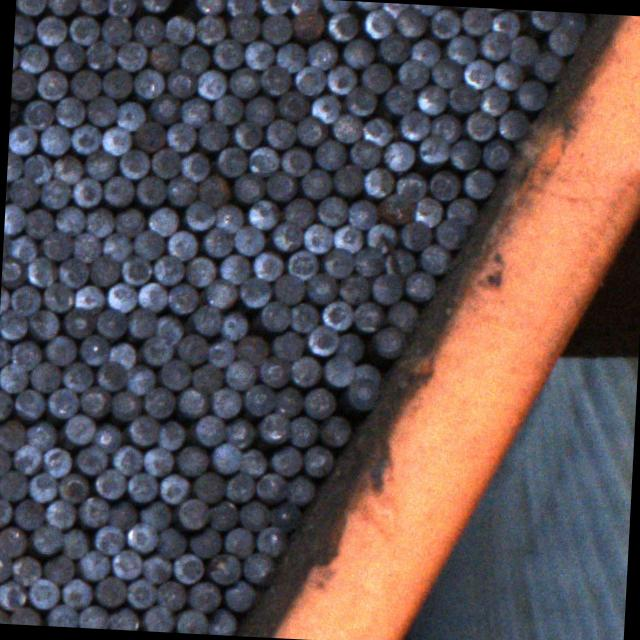tool: (197, 172, 234, 208), (175, 443, 210, 478), (268, 498, 304, 532), (176, 384, 210, 420), (341, 36, 376, 70), (93, 466, 127, 501), (168, 280, 202, 315), (186, 526, 222, 559), (190, 471, 226, 504), (223, 468, 256, 504), (186, 580, 223, 612), (28, 523, 66, 554), (288, 354, 322, 388), (290, 8, 324, 42), (175, 332, 209, 366), (274, 89, 309, 122), (29, 359, 62, 394), (41, 280, 76, 313), (242, 552, 278, 584), (370, 326, 406, 358), (320, 298, 356, 330), (433, 218, 469, 250), (312, 138, 348, 170), (156, 472, 192, 504), (190, 360, 226, 392), (234, 334, 270, 366), (52, 40, 88, 72), (11, 496, 45, 529), (429, 6, 462, 40), (12, 388, 46, 421), (44, 334, 78, 367), (63, 305, 96, 339), (119, 254, 153, 287), (134, 227, 167, 261), (247, 145, 281, 178), (70, 68, 104, 101), (148, 39, 182, 72), (211, 37, 245, 70), (242, 39, 276, 72), (34, 13, 68, 46), (228, 11, 262, 44), (41, 552, 76, 584), (286, 249, 321, 281), (428, 168, 463, 200), (244, 382, 276, 417), (232, 223, 268, 254), (208, 552, 241, 585), (209, 442, 242, 475), (222, 579, 256, 611), (254, 525, 288, 557), (268, 444, 302, 476), (318, 414, 352, 446), (344, 377, 378, 409), (322, 354, 356, 386), (272, 328, 304, 362), (304, 272, 338, 304), (370, 272, 402, 306), (463, 166, 497, 198), (480, 138, 514, 170), (429, 112, 463, 144), (415, 82, 447, 116), (478, 84, 512, 116), (516, 77, 548, 111), (362, 5, 394, 39), (74, 444, 108, 476), (142, 386, 176, 418), (159, 358, 191, 392), (260, 356, 294, 388), (77, 333, 111, 365), (140, 334, 174, 366), (190, 303, 222, 337), (167, 228, 199, 262), (233, 171, 267, 203), (150, 146, 182, 180), (166, 120, 198, 154), (86, 94, 118, 128), (102, 65, 134, 99), (164, 66, 198, 98), (384, 300, 420, 330), (154, 526, 187, 558), (306, 323, 338, 356), (335, 330, 367, 363), (288, 302, 321, 334), (336, 272, 369, 304), (419, 243, 451, 276), (280, 144, 312, 177), (361, 61, 394, 93), (10, 442, 43, 474), (62, 413, 95, 445), (90, 420, 123, 452), (193, 414, 226, 446), (78, 385, 110, 418), (110, 389, 142, 422), (224, 358, 256, 391), (11, 338, 44, 370), (95, 306, 128, 338), (136, 280, 168, 313), (88, 254, 121, 286), (202, 225, 235, 257), (148, 204, 180, 237), (248, 197, 280, 230), (72, 175, 104, 208), (166, 174, 198, 207), (85, 149, 118, 181), (180, 150, 213, 182), (134, 120, 166, 153), (150, 91, 182, 124), (37, 68, 70, 100), (196, 67, 228, 100), (230, 66, 263, 98), (180, 40, 212, 73), (28, 577, 62, 608), (107, 497, 138, 531), (272, 384, 303, 418), (302, 387, 336, 418), (271, 274, 305, 305), (380, 192, 414, 223), (344, 85, 378, 116), (382, 84, 416, 115), (305, 38, 339, 69), (409, 36, 443, 67), (478, 30, 512, 61), (260, 13, 294, 44), (238, 276, 272, 307), (152, 255, 186, 286), (252, 250, 286, 281), (55, 202, 86, 236), (8, 176, 42, 207), (100, 125, 134, 156), (231, 119, 265, 150), (244, 93, 278, 124), (66, 14, 100, 45), (196, 14, 230, 45), (60, 526, 92, 558), (238, 499, 270, 531), (302, 444, 334, 476), (404, 269, 436, 301), (352, 245, 384, 277), (310, 92, 342, 124), (260, 64, 292, 96), (464, 58, 496, 90), (447, 33, 479, 65), (254, 472, 286, 504), (128, 414, 160, 446), (27, 309, 59, 341), (258, 300, 290, 332), (220, 253, 252, 285), (24, 206, 56, 238), (104, 175, 136, 207), (136, 174, 168, 206), (52, 152, 84, 184), (118, 148, 150, 180), (180, 96, 212, 128), (133, 67, 165, 99), (85, 40, 117, 72), (100, 14, 132, 46), (132, 14, 164, 46), (92, 524, 125, 555), (125, 521, 158, 552), (207, 499, 238, 532), (303, 222, 334, 255), (265, 170, 298, 201), (349, 138, 382, 169), (294, 64, 327, 95), (396, 57, 429, 88), (377, 32, 410, 63), (111, 443, 142, 476), (154, 312, 187, 343), (186, 255, 217, 288), (85, 204, 116, 237), (215, 145, 248, 176), (54, 95, 87, 126), (115, 99, 148, 130), (115, 41, 148, 72), (163, 13, 196, 44), (398, 110, 432, 140), (496, 109, 530, 139), (204, 278, 238, 308), (58, 254, 88, 288), (184, 200, 218, 230), (22, 100, 56, 130), (94, 576, 126, 607), (10, 554, 42, 585), (140, 498, 172, 529), (272, 220, 304, 251), (284, 196, 316, 227), (317, 193, 348, 225), (347, 198, 378, 230), (412, 196, 443, 228), (333, 165, 364, 197), (363, 166, 394, 198), (450, 138, 481, 170), (265, 116, 296, 148), (431, 56, 463, 87), (547, 24, 579, 55), (57, 472, 89, 503), (142, 446, 174, 477), (223, 416, 254, 448), (210, 387, 242, 418), (61, 361, 93, 392), (126, 364, 158, 395), (106, 281, 138, 312), (42, 228, 73, 260), (198, 119, 230, 150), (212, 94, 244, 125), (321, 248, 354, 278), (399, 220, 432, 250), (299, 168, 332, 198), (360, 115, 393, 145), (395, 6, 428, 36), (26, 417, 56, 450), (260, 412, 290, 445), (95, 360, 128, 390), (0, 308, 30, 341), (9, 284, 42, 314), (0, 469, 29, 503), (0, 360, 29, 394), (382, 248, 417, 276), (366, 221, 397, 252), (383, 140, 414, 171), (331, 111, 362, 142), (114, 205, 145, 236), (62, 578, 94, 608), (125, 577, 157, 607), (78, 550, 110, 580), (172, 552, 204, 582), (177, 498, 209, 528), (223, 526, 255, 556), (285, 472, 315, 504), (354, 300, 384, 332), (334, 222, 364, 254), (395, 170, 427, 200), (464, 110, 496, 140), (534, 51, 566, 81), (508, 34, 538, 66), (325, 11, 357, 41), (48, 387, 80, 417), (205, 336, 235, 368), (127, 306, 157, 338), (220, 308, 250, 340), (16, 43, 48, 73), (174, 606, 208, 634), (111, 548, 142, 578), (78, 496, 109, 526), (288, 416, 318, 447), (418, 132, 448, 163), (296, 115, 326, 146), (448, 82, 478, 113), (494, 58, 524, 89), (27, 256, 57, 287), (42, 178, 72, 209), (8, 124, 38, 155), (40, 124, 70, 155), (70, 124, 101, 154), (0, 417, 26, 452), (142, 553, 172, 583), (326, 64, 356, 94), (274, 42, 304, 72), (28, 473, 58, 503), (127, 472, 157, 502), (42, 446, 72, 476), (239, 446, 269, 476), (72, 232, 101, 263), (44, 498, 76, 526), (206, 608, 238, 636), (447, 197, 479, 225), (102, 232, 134, 260), (106, 605, 140, 631), (157, 580, 186, 610), (490, 9, 520, 38), (108, 340, 137, 370), (215, 202, 244, 232), (24, 153, 53, 183), (158, 418, 186, 449), (0, 525, 27, 557), (1, 256, 28, 288), (144, 604, 174, 632), (461, 7, 491, 35), (75, 284, 105, 312), (11, 68, 37, 100), (10, 233, 38, 262), (0, 580, 27, 610), (46, 603, 78, 628), (4, 202, 27, 235), (79, 604, 108, 629), (352, 362, 382, 386), (14, 13, 37, 44), (560, 13, 588, 36), (10, 606, 42, 626), (529, 10, 560, 30), (7, 151, 26, 182), (46, 0, 79, 17), (288, 0, 320, 17), (227, 0, 257, 18), (194, 0, 226, 16), (107, 0, 137, 16), (16, 0, 47, 15), (79, 0, 109, 15), (259, 0, 291, 14), (0, 390, 13, 420), (321, 0, 352, 12), (0, 446, 12, 477), (140, 0, 171, 12), (0, 551, 12, 581), (0, 337, 12, 367), (0, 496, 11, 527), (382, 3, 409, 15), (0, 606, 11, 624)
tool_b: (10, 98, 24, 130)
void: (167, 0, 201, 18)
